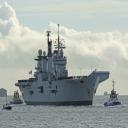Portanaves: (14, 22, 112, 109)
